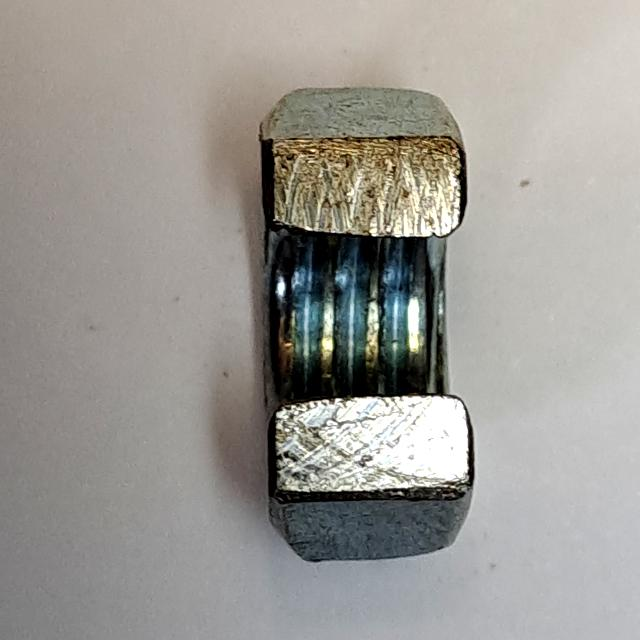Side-Fracture: (230, 68, 502, 575)
